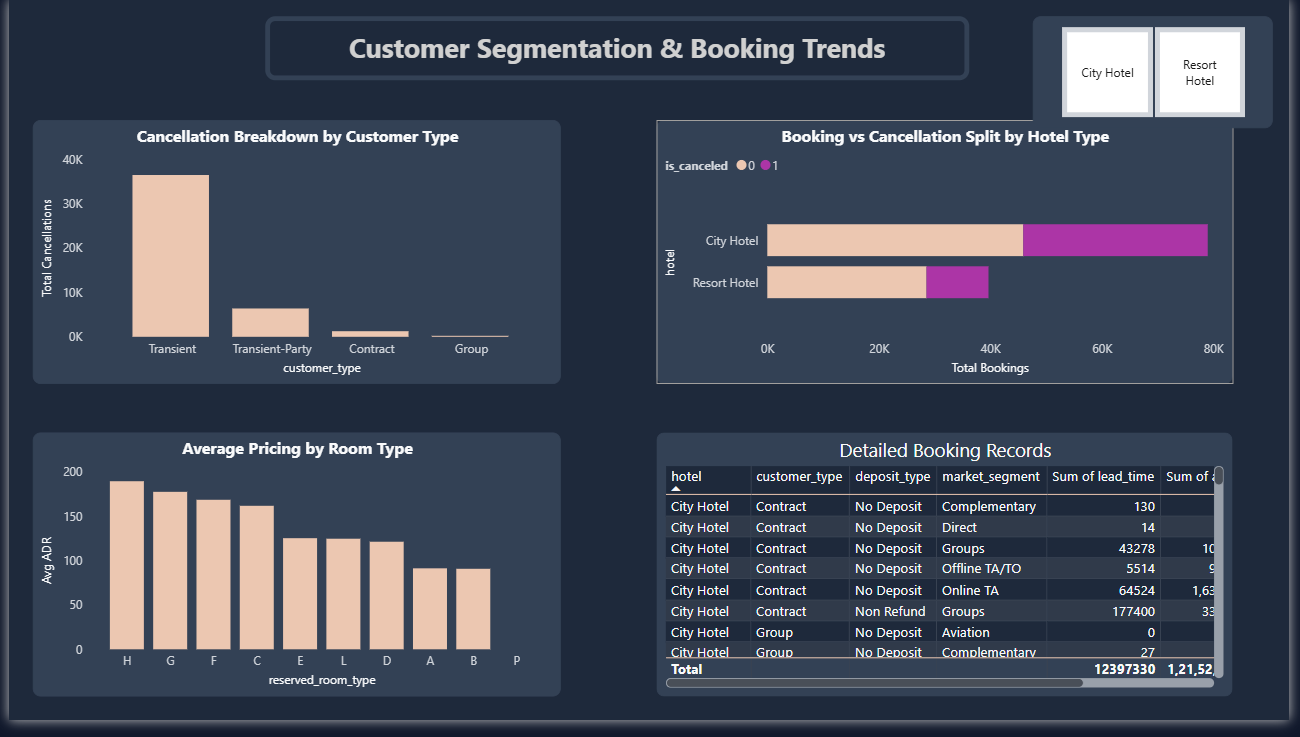

Layout of this report page (visuals, bound fields, positions):
{"tool":"powerbi","page":{"name":"Customer Segmentation & Trends","canvas":[1280,720],"ordinal":1},"visuals":[{"type":"textbox","box":[256,16,704,64],"z":0},{"type":"lineClusteredColumnComboChart","title":"Cancellation Breakdown by Customer Type","fields":{"Category":["cleaned_hotel_data_week1.customer_type"],"Y":["cleaned_hotel_data_week1.Total Cancellations"]},"box":[24,120,528,264],"z":1000},{"type":"barChart","title":"Booking vs Cancellation Split by Hotel Type","fields":{"Category":["cleaned_hotel_data_week1.hotel"],"Series":["cleaned_hotel_data_week1.is_canceled"],"Y":["cleaned_hotel_data_week1.Total Bookings"]},"box":[648,120,576,264],"z":2000},{"type":"lineClusteredColumnComboChart","title":"Average Pricing by Room Type","fields":{"Category":["cleaned_hotel_data_week1.reserved_room_type"],"Y":["cleaned_hotel_data_week1.Avg ADR"]},"box":[24,432,528,264],"z":3000},{"type":"tableEx","title":"Detailed Booking Records","fields":{"Values":["cleaned_hotel_data_week1.hotel","cleaned_hotel_data_week1.customer_type","cleaned_hotel_data_week1.deposit_type","cleaned_hotel_data_week1.market_segment","Sum(cleaned_hotel_data_week1.lead_time)","Sum(cleaned_hotel_data_week1.adr)","Sum(cleaned_hotel_data_week1.is_canceled)"]},"box":[648,432,576,264],"z":4000},{"type":"slicer","fields":{"Values":["cleaned_hotel_data_week1.hotel"]},"box":[1024,16,240,112],"z":5000}]}

Visuals, with their boxes in screenshot pixels (x1, y1, x2, y2), scaled from the page's 1280x720 canvas onto the 1300x737 screenshot:
textbox: left=260, top=16, right=975, bottom=82
"Cancellation Breakdown by Customer Type" lineClusteredColumnComboChart: left=24, top=123, right=561, bottom=393
"Booking vs Cancellation Split by Hotel Type" barChart: left=658, top=123, right=1243, bottom=393
"Average Pricing by Room Type" lineClusteredColumnComboChart: left=24, top=442, right=561, bottom=712
"Detailed Booking Records" tableEx: left=658, top=442, right=1243, bottom=712
slicer - cleaned_hotel_data_week1.hotel: left=1040, top=16, right=1284, bottom=131
